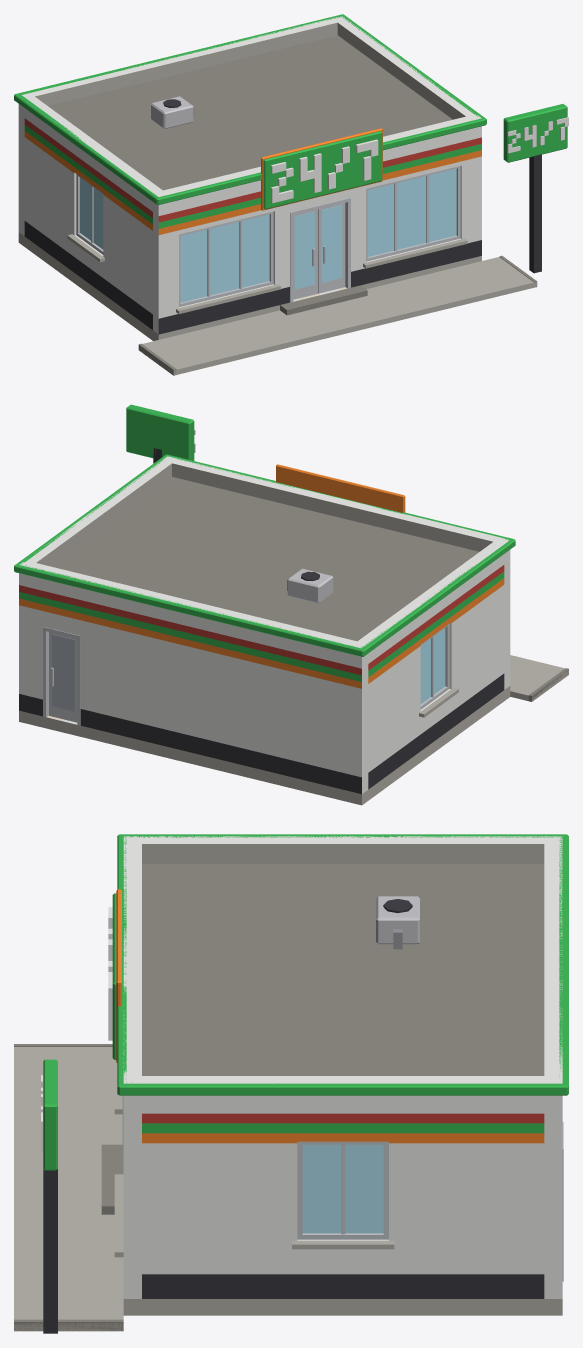
File: ConvenienceStore.fbx
3 renders of one model, top to bottom at view 1: azimuth 30°, elevation 25°; view 2: azimuth 150°, elevation 25°; view 3: azimuth 270°, elevation 25°, orthographic. The views are drawn at different scales.
Parts seen in each view (by area): view 1: ConvenienceStore, ConvenienceStore_Roof, ConvenienceStore_Glass, ConvenienceStore_Sign, ConvenienceStore_DoorR, ConvenienceStore_DoorL; view 2: ConvenienceStore, ConvenienceStore_Roof, ConvenienceStore_Sign, ConvenienceStore_BackDoor, ConvenienceStore_Glass; view 3: ConvenienceStore, ConvenienceStore_Roof, ConvenienceStore_Glass, ConvenienceStore_Sign.
Part boxes in pixels (x1,y1,x2,y2): ConvenienceStore: (14,14,537,375); ConvenienceStore_Roof: (48,35,452,190); ConvenienceStore_Glass: (80,168,456,302); ConvenienceStore_Sign: (261,104,568,273); ConvenienceStore_DoorR: (318,203,345,293); ConvenienceStore_DoorL: (293,209,317,299); ConvenienceStore: (14,454,568,805); ConvenienceStore_Roof: (50,477,479,641); ConvenienceStore_Sign: (126,404,405,512); ConvenienceStore_BackDoor: (49,632,77,722); ConvenienceStore_Glass: (420,628,445,703); ConvenienceStore: (14,834,568,1331); ConvenienceStore_Roof: (142,864,544,1075); ConvenienceStore_Glass: (302,1144,383,1233); ConvenienceStore_Sign: (41,889,121,1333).
Bounding box in the file's own units: 40 × 15.51 × 30.35.
Materials: 1 (1 with a texture image).
